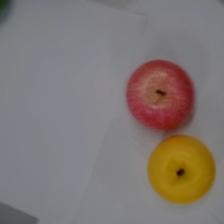red: (124, 58, 194, 131)
yellow: (146, 133, 216, 204)
